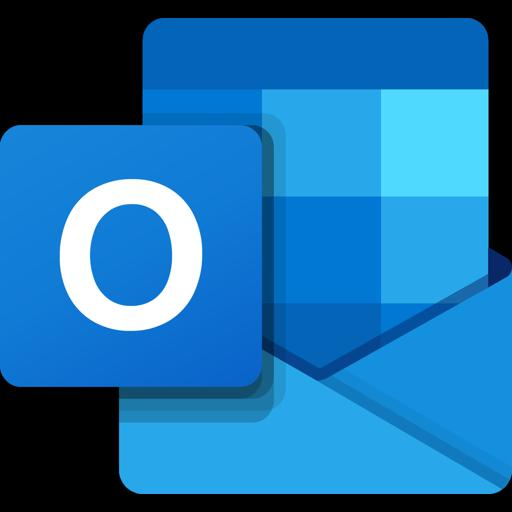Outlook: (0, 18, 512, 494)
